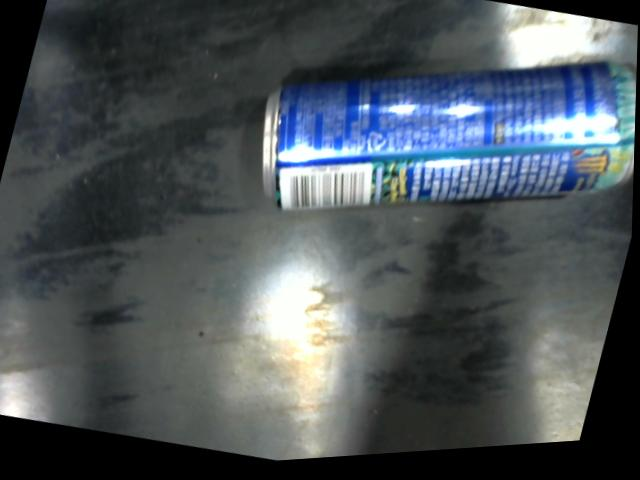can: (260, 68, 637, 217)
